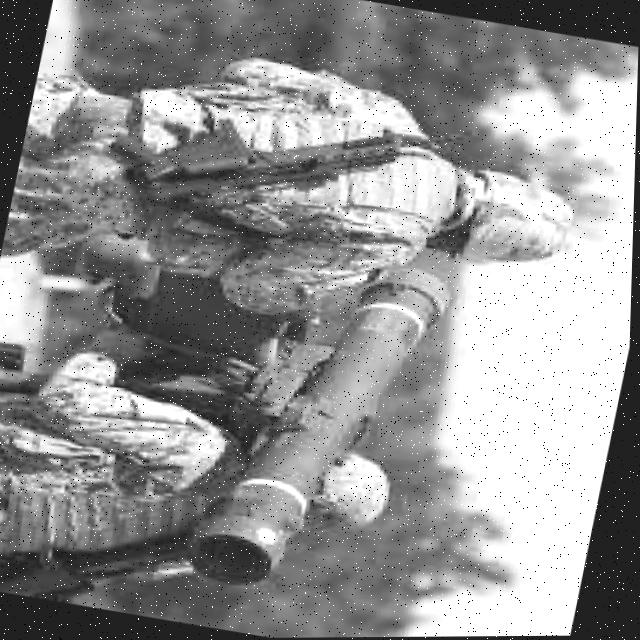rocket: (163, 235, 481, 622)
